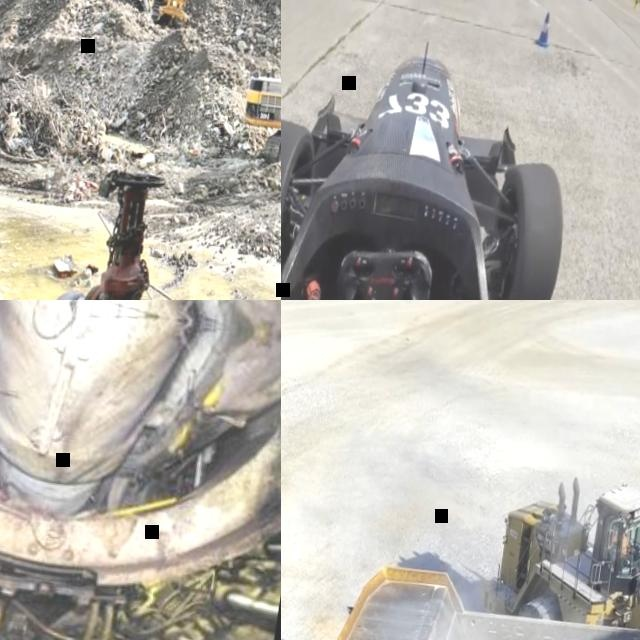Person: (610, 526, 634, 558)
Safety Cone: (534, 11, 555, 51), (631, 0, 640, 13)
Safety Vest: (610, 530, 632, 557)
machinery: (281, 547, 640, 640), (463, 458, 640, 640), (134, 0, 198, 28)
vehicle: (281, 11, 607, 300)
